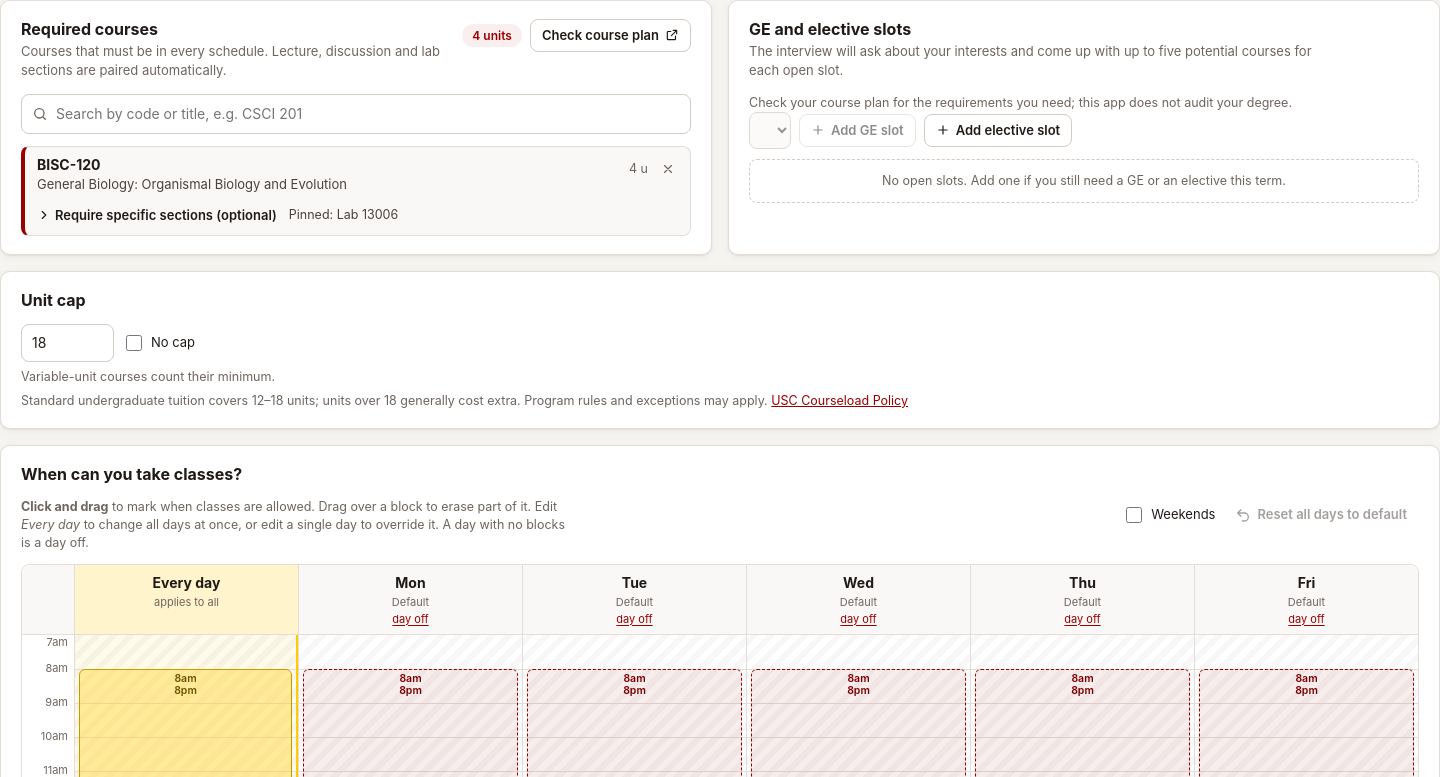
Test: clear-section vs remove-course controls › pins survive save and restore, and the restored card starts collapsed with its summary
Expected: the text "Pinned: Lab 13006" is shown, x1=289 y1=206 x2=398 y2=224
Click the button "Require specific sections (optional)" at point(159, 215), box x1=37 y1=204 x2=281 y2=226
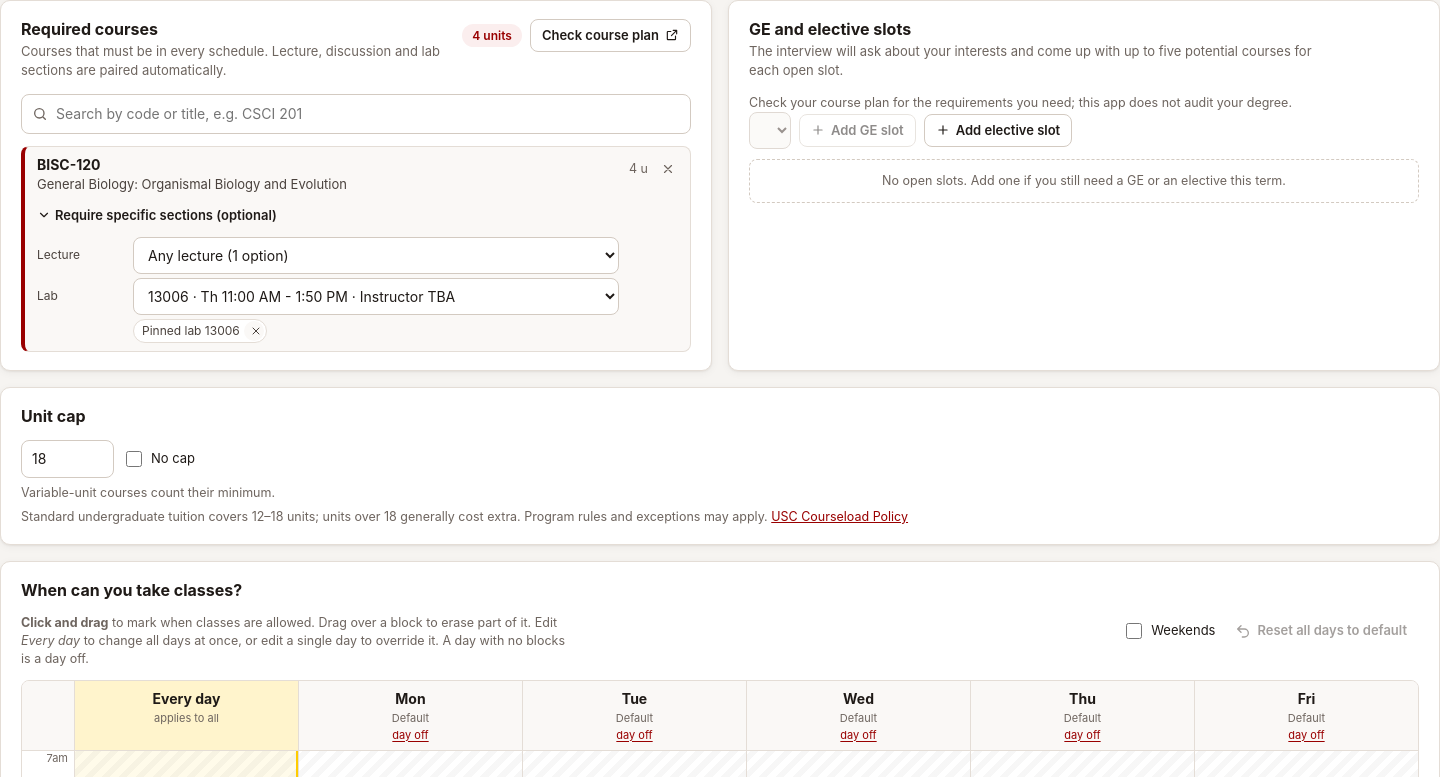
Result: the dropdown labelled "Lab" shows "13006 · Th 11:00 AM - 1:50 PM · Instructor TBA" at x1=133 y1=278 x2=619 y2=315
